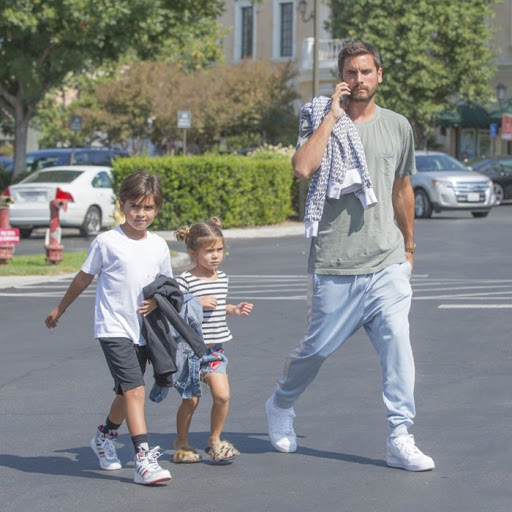Person: (265, 40, 435, 471), (46, 173, 180, 481), (176, 218, 252, 462)
